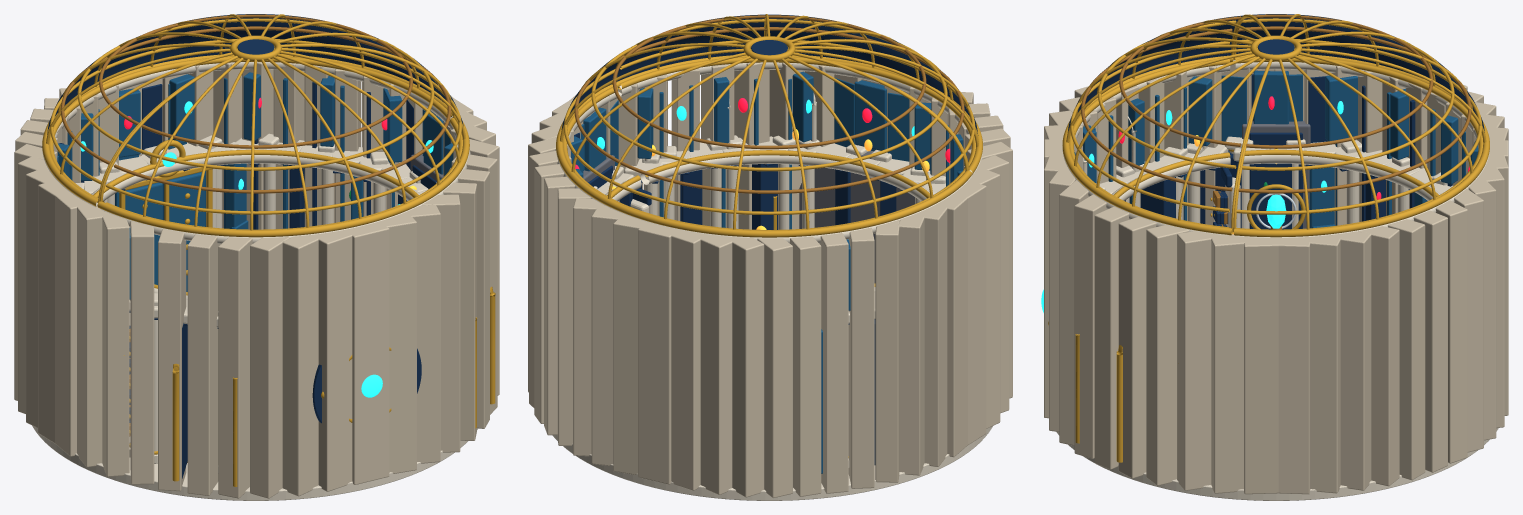
Rendered from vault-museum.glb.
3 views of the same model, side by side, from view 1: azimuth 30°, elevation 25°; view 2: azimuth 150°, elevation 25°; view 3: azimuth 270°, elevation 25° (orthographic).
Visible parts, largest first — view 1: vault-museum-authored-batch-04-interior-white-marble, vault-museum-360-completion-batch-10-interior-white-marble, vault-museum-authored-batch-02-interior-polished-gold, vault-museum-360-completion-batch-14-interior-polished-gold, vault-museum-360-completion-batch-11-interior-sapphire-ename, vault-museum-360-completion-batch-13-interior-pearl-marble, vault-museum-360-completion-batch-12-interior-midnight-ename, vault-museum-authored-batch-00-interior-pearl-marble, vault-museum-authored-batch-09-interior-antique-gold, vault-museum-360-completion-batch-15-interior-antique-gold, vault-museum-authored-batch-01-interior-midnight-enamel; view 2: vault-museum-360-completion-batch-10-interior-white-marble, vault-museum-authored-batch-04-interior-white-marble, vault-museum-360-completion-batch-14-interior-polished-gold, vault-museum-authored-batch-00-interior-pearl-marble, vault-museum-authored-batch-02-interior-polished-gold, vault-museum-authored-batch-05-interior-sapphire-enamel, vault-interior-coffered-rotunda-vault, vault-museum-authored-batch-01-interior-midnight-enamel, vault-museum-360-completion-batch-15-interior-antique-gold, vault-museum-authored-batch-06-interior-shadow-marble, vault-museum-authored-batch-09-interior-antique-gold, vault-museum-360-completion-batch-11-interior-sapphire-ename (+2 smaller); view 3: vault-museum-360-completion-batch-10-interior-white-marble, vault-museum-authored-batch-04-interior-white-marble, vault-museum-360-completion-batch-14-interior-polished-gold, vault-museum-authored-batch-02-interior-polished-gold, vault-museum-360-completion-batch-11-interior-sapphire-ename, vault-museum-360-completion-batch-12-interior-midnight-ename, vault-museum-authored-batch-00-interior-pearl-marble, vault-museum-360-completion-batch-13-interior-pearl-marble, vault-museum-authored-batch-05-interior-sapphire-enamel, vault-museum-360-completion-batch-15-interior-antique-gold, vault-museum-authored-batch-01-interior-midnight-enamel, vault-museum-authored-batch-09-interior-antique-gold (+3 smaller).
Part boxes in pixels (box(x1,y1,x2,y2)): vault-museum-authored-batch-04-interior-white-marble: box(75, 109, 499, 498); vault-museum-360-completion-batch-10-interior-white-marble: box(14, 61, 480, 465); vault-museum-authored-batch-02-interior-polished-gold: box(97, 35, 495, 486); vault-museum-360-completion-batch-14-interior-polished-gold: box(42, 14, 452, 275); vault-museum-360-completion-batch-11-interior-sapphire-ename: box(57, 72, 450, 291); vault-museum-360-completion-batch-13-interior-pearl-marble: box(41, 62, 452, 229); vault-museum-360-completion-batch-12-interior-midnight-ename: box(47, 14, 445, 229); vault-museum-authored-batch-00-interior-pearl-marble: box(32, 123, 478, 500); vault-museum-authored-batch-09-interior-antique-gold: box(114, 61, 451, 436); vault-museum-360-completion-batch-15-interior-antique-gold: box(60, 14, 438, 164); vault-museum-authored-batch-01-interior-midnight-enamel: box(129, 39, 421, 478); vault-museum-360-completion-batch-10-interior-white-marble: box(528, 95, 998, 497); vault-museum-authored-batch-04-interior-white-marble: box(601, 62, 1012, 428); vault-museum-360-completion-batch-14-interior-polished-gold: box(556, 31, 971, 457); vault-museum-authored-batch-00-interior-pearl-marble: box(552, 62, 992, 500); vault-museum-authored-batch-02-interior-polished-gold: box(616, 14, 982, 229); vault-museum-authored-batch-05-interior-sapphire-enamel: box(610, 71, 966, 229); vault-interior-coffered-rotunda-vault: box(616, 14, 978, 135); vault-museum-authored-batch-01-interior-midnight-enamel: box(619, 40, 902, 229); vault-museum-360-completion-batch-15-interior-antique-gold: box(574, 37, 953, 193); vault-museum-authored-batch-06-interior-shadow-marble: box(799, 150, 914, 282); vault-museum-authored-batch-09-interior-antique-gold: box(633, 14, 964, 134); vault-museum-360-completion-batch-11-interior-sapphire-ename: box(571, 102, 850, 473); vault-museum-360-completion-batch-10-interior-white-marble: box(1213, 60, 1508, 494); vault-museum-authored-batch-04-interior-white-marble: box(1044, 65, 1251, 493); vault-museum-360-completion-batch-14-interior-polished-gold: box(1228, 14, 1489, 237); vault-museum-authored-batch-02-interior-polished-gold: box(1048, 14, 1302, 462); vault-museum-360-completion-batch-11-interior-sapphire-ename: box(1223, 70, 1478, 228); vault-museum-360-completion-batch-12-interior-midnight-ename: box(1235, 14, 1484, 229); vault-museum-authored-batch-00-interior-pearl-marble: box(1056, 64, 1498, 500); vault-museum-360-completion-batch-13-interior-pearl-marble: box(1225, 60, 1489, 237); vault-museum-authored-batch-05-interior-sapphire-enamel: box(1074, 75, 1246, 220); vault-museum-360-completion-batch-15-interior-antique-gold: box(1238, 14, 1471, 229); vault-museum-authored-batch-01-interior-midnight-enamel: box(1125, 39, 1294, 228); vault-museum-authored-batch-09-interior-antique-gold: box(1081, 15, 1241, 226).
Size of the model in its own units: 11.57 by 9.83 by 11.61.
